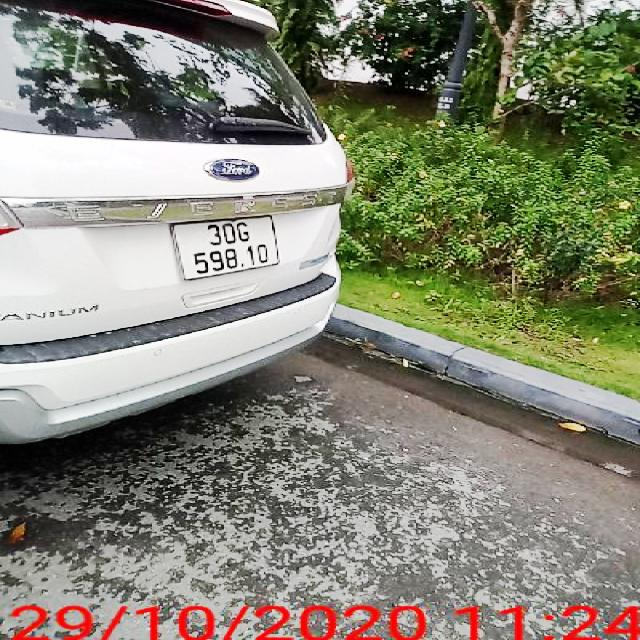license_plate: (168, 214, 289, 287)
